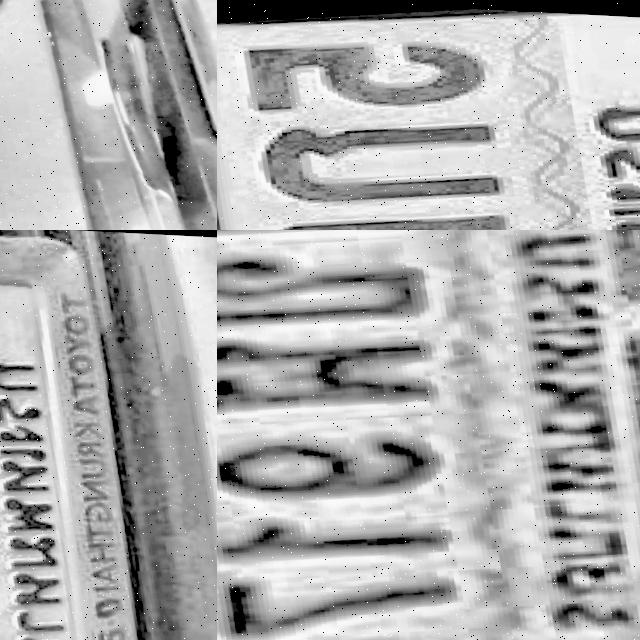license-plate: (217, 230, 640, 640), (217, 0, 640, 230), (0, 230, 194, 640)
